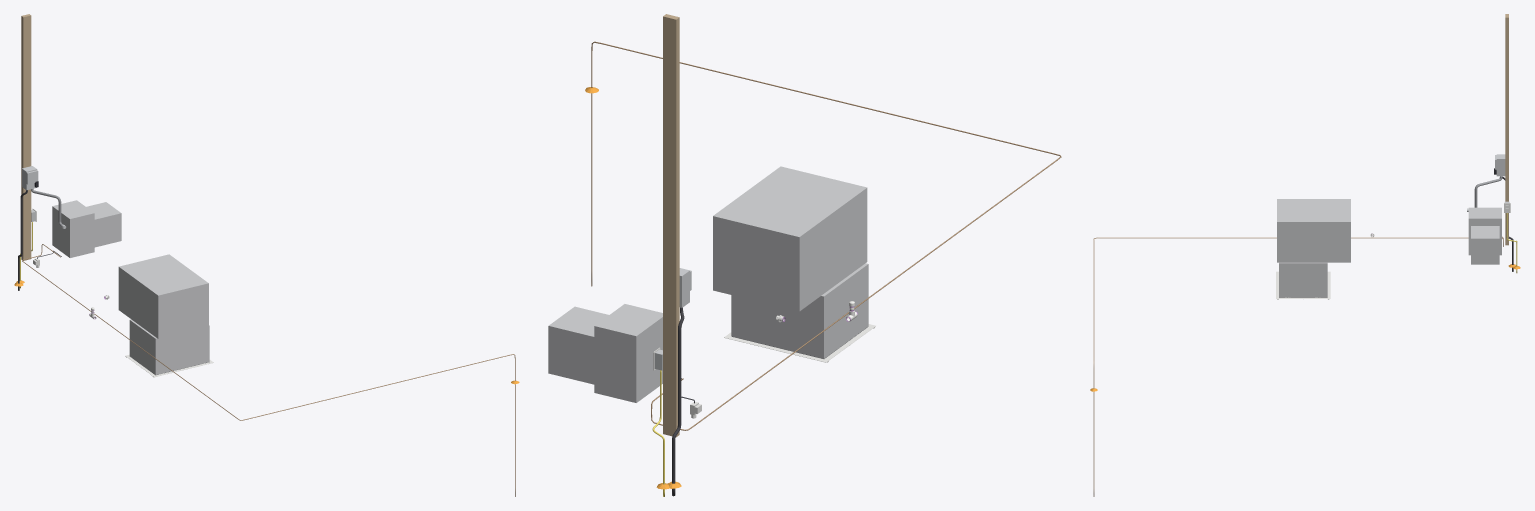
Rendered from pipes_hvac__hvac__a340dde3.glb.
3 views of the same model, side by side, from view 1: azimuth 30°, elevation 25°; view 2: azimuth 150°, elevation 25°; view 3: azimuth 270°, elevation 25° (orthographic). The views are drawn at different scales.
Visible parts, largest first — view 1: duct_return_ahu_box, duct_return_ahu_drop, strut_hvac_ahu, duct_hvac_ahu_supply_plenum, duct_hvac_ahu_supply_connector, cable_hvac_tstat_hall_hp; view 2: duct_return_ahu_box, duct_return_ahu_drop, strut_hvac_ahu, duct_hvac_ahu_supply_plenum, duct_hvac_ahu_supply_connector, cable_hvac_tstat_hall_hp, cable_hvac_ahu_feed, grille_return_hvac_ahu; view 3: duct_return_ahu_box, duct_return_ahu_drop, duct_hvac_ahu_supply_connector, cable_hvac_tstat_hall_hp, strut_hvac_ahu, duct_hvac_ahu_supply_plenum.
Part boxes in pixels (x1,y1,x2,y2): duct_return_ahu_box: (118,254,208,338); duct_return_ahu_drop: (129,319,209,374); strut_hvac_ahu: (21,14,31,260); duct_hvac_ahu_supply_plenum: (52,200,94,257); duct_hvac_ahu_supply_connector: (86,202,121,247); cable_hvac_tstat_hall_hp: (22,244,515,496); duct_return_ahu_box: (713,166,867,311); duct_return_ahu_drop: (731,263,868,358); strut_hvac_ahu: (663,14,679,437); duct_hvac_ahu_supply_plenum: (594,304,662,402); duct_hvac_ahu_supply_connector: (548,306,608,384); cable_hvac_tstat_hall_hp: (591,41,1061,430); cable_hvac_ahu_feed: (672,307,684,496); grille_return_hvac_ahu: (724,324,875,362); duct_return_ahu_box: (1277,199,1350,262); duct_return_ahu_drop: (1279,262,1327,297); duct_hvac_ahu_supply_connector: (1471,226,1499,264); cable_hvac_tstat_hall_hp: (1093,236,1503,496); strut_hvac_ahu: (1505,14,1508,245); duct_hvac_ahu_supply_plenum: (1468,207,1501,255).
Size of the model in its own units: 3.3 by 4.15 by 4.51.
